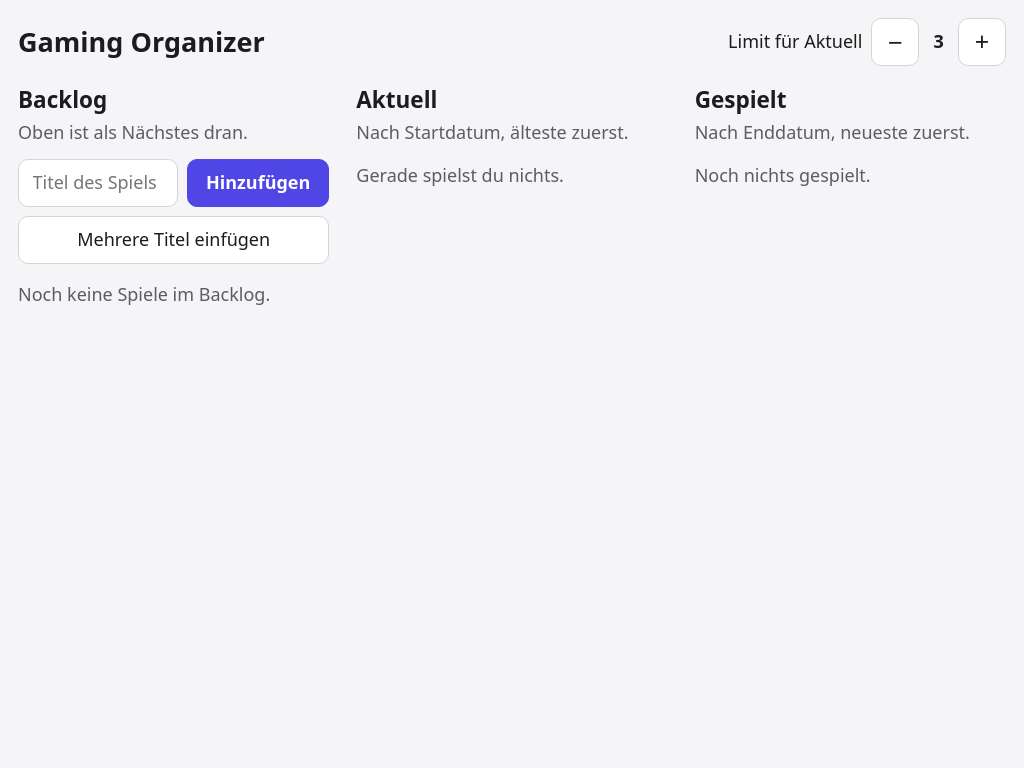
Test: App › deletes a Game only after confirmation
This screenshot has width=1024, height=768.
expect the heading "Gaming Organizer" is shown: met, box [18,23,265,61]
Type "Hades" into the field labelled "Titel des Spiels".
click(98, 183); type("Hades")  # box [18,159,178,207]
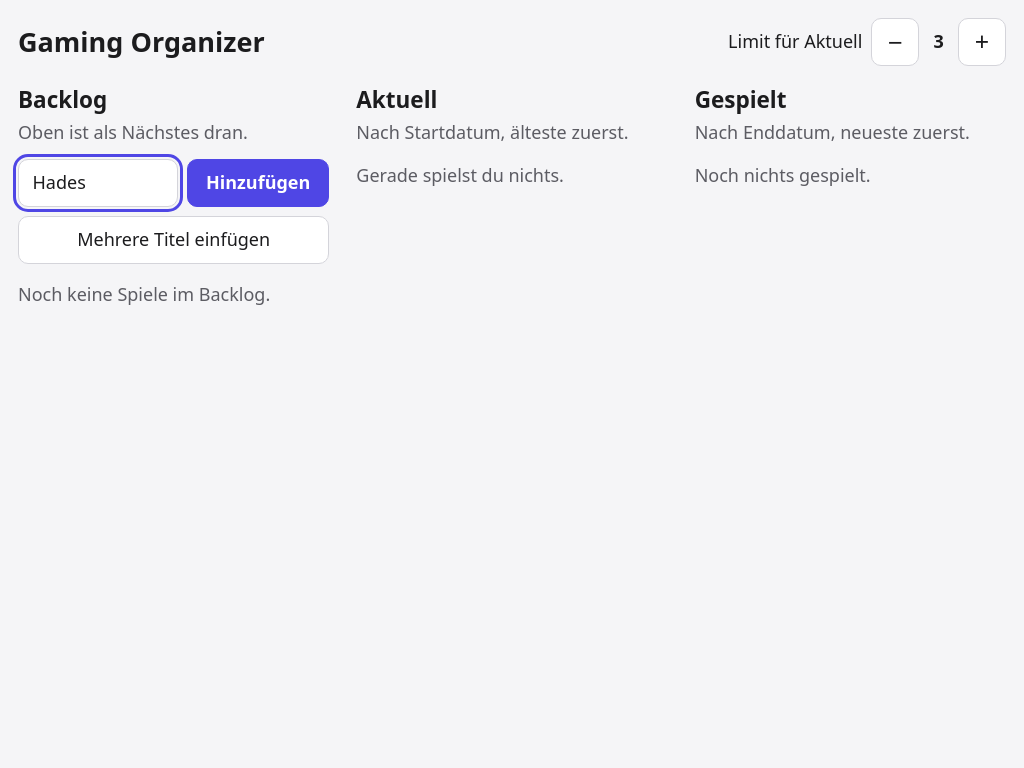
Click the button "Hinzufügen".
click(258, 183)  # box [187,159,329,207]
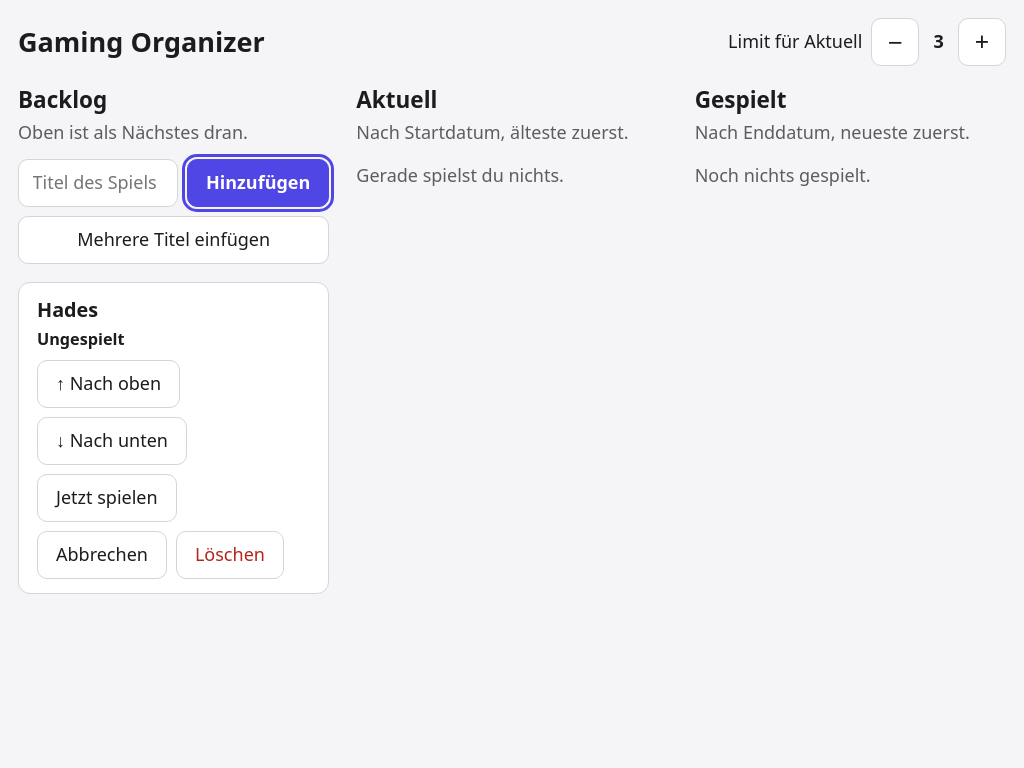
Click the button "Löschen".
click(230, 555)  # box [176,531,284,579]
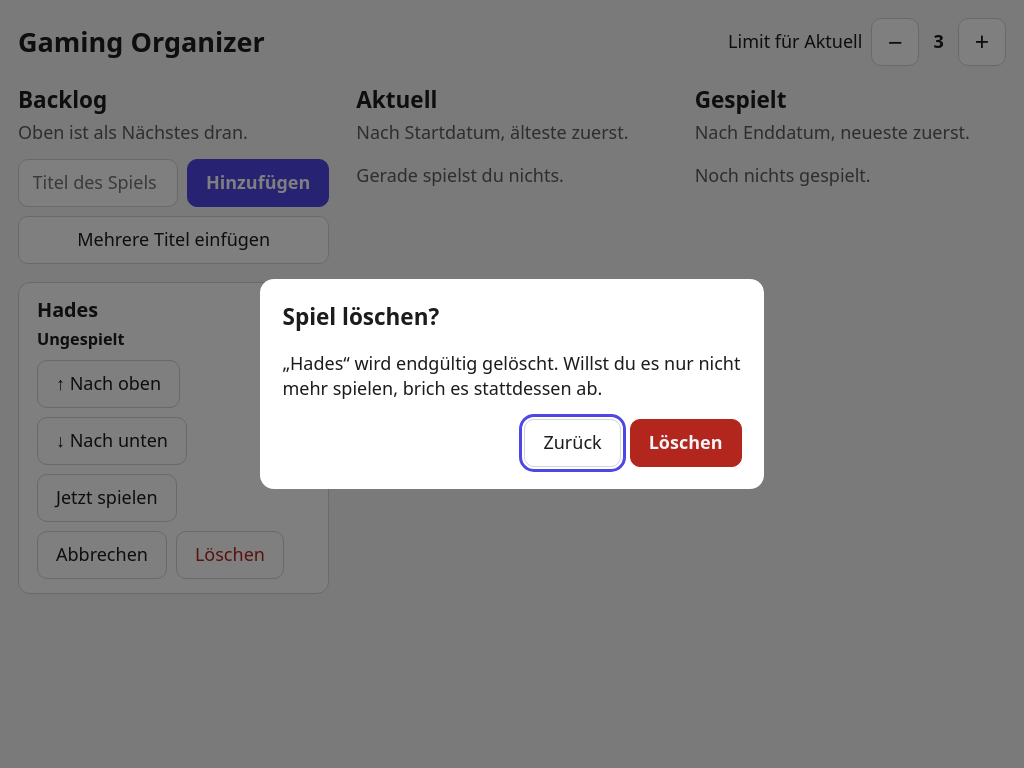
Click the button "Zurück".
click(573, 443)  # box [524,419,621,467]
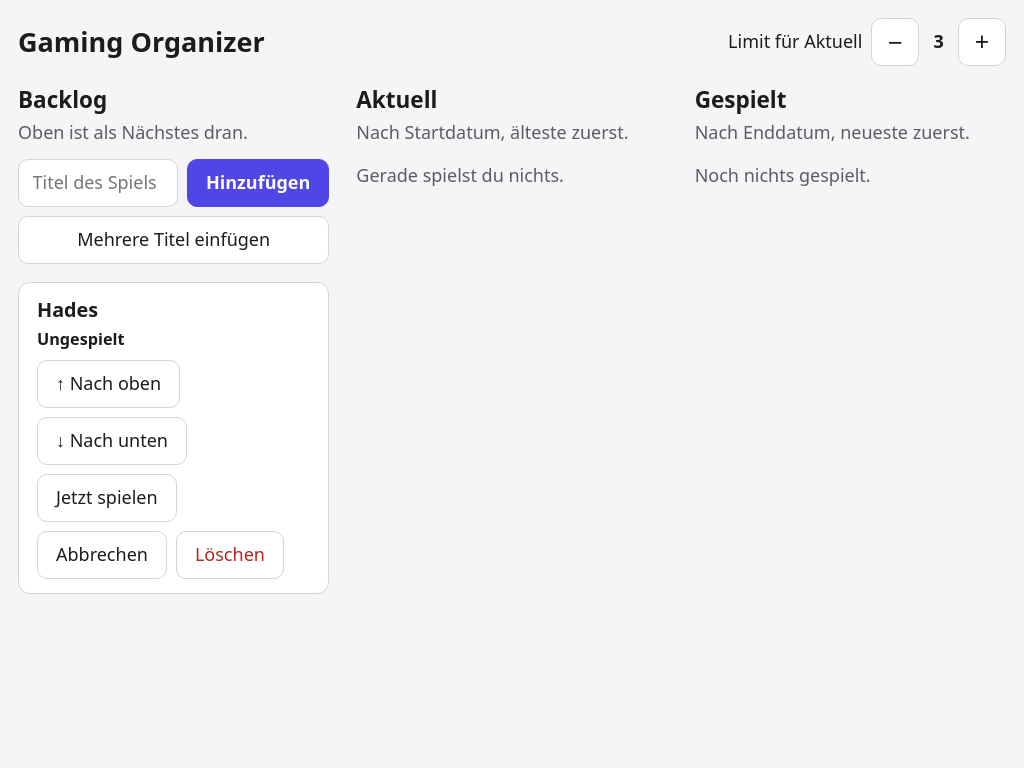
Click the button "Löschen".
click(230, 555)  # box [176,531,284,579]
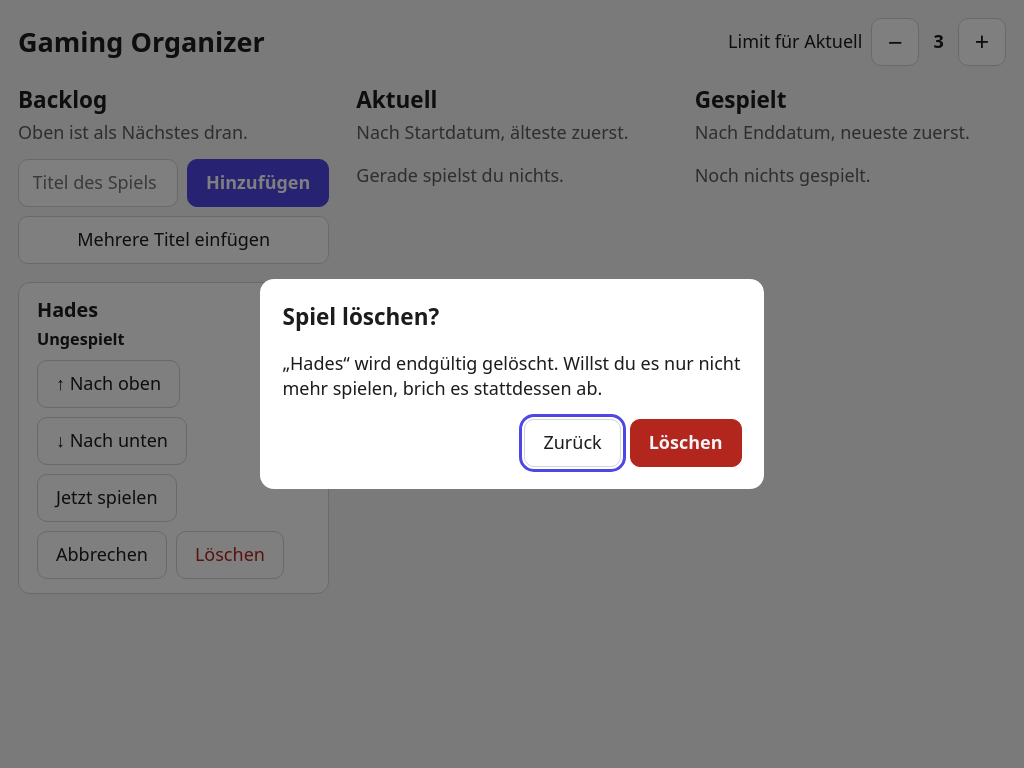
Click the button "Löschen".
click(686, 443)  # box [630,419,742,467]
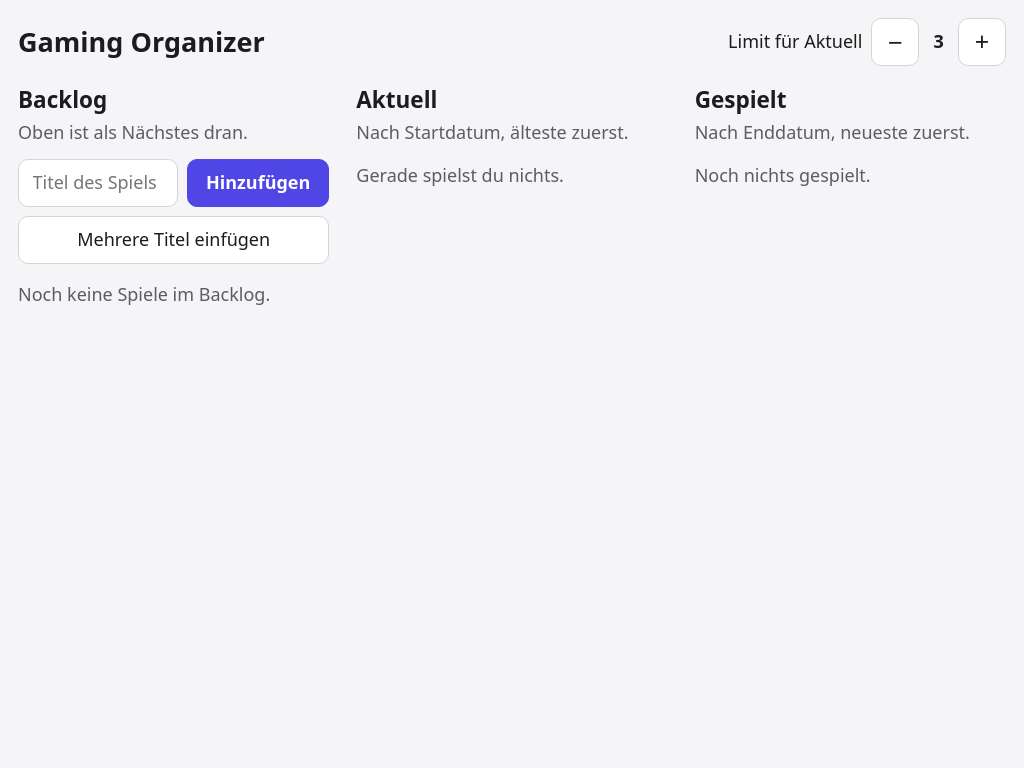
expect the dialog is gone: met
expect the heading "Hades" is gone: met
